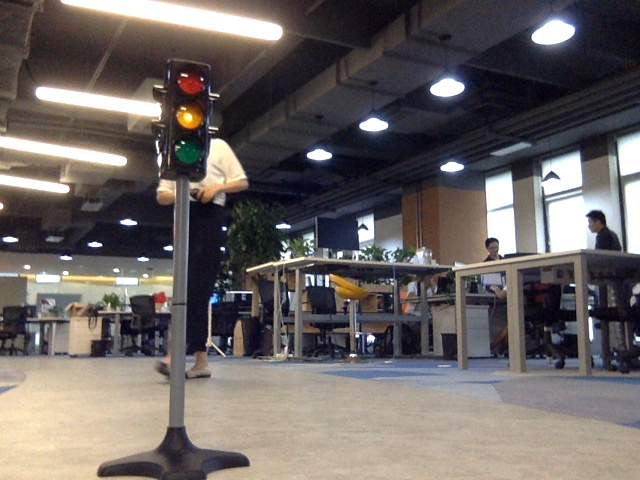yellow: (170, 68, 201, 163)
